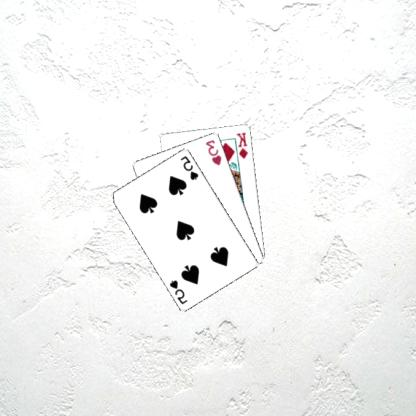3H: (205, 137, 224, 166)
5S: (180, 153, 202, 181), (169, 277, 191, 305)
KD: (236, 130, 251, 160)
